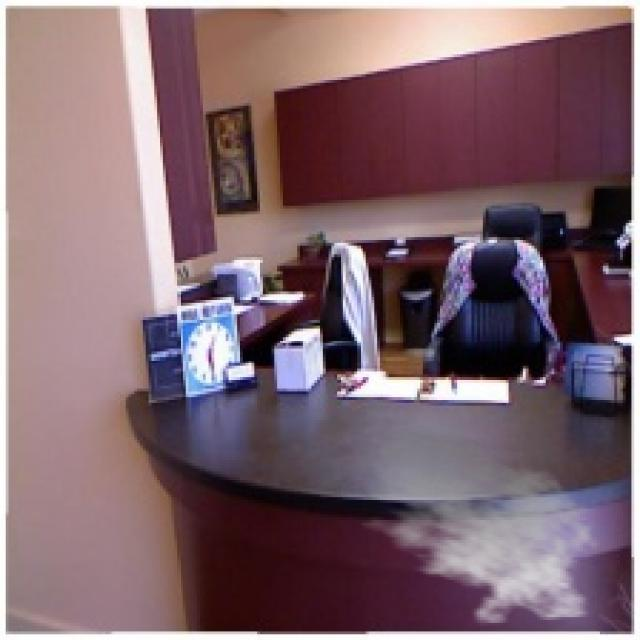smoke: (348, 426, 603, 626)
